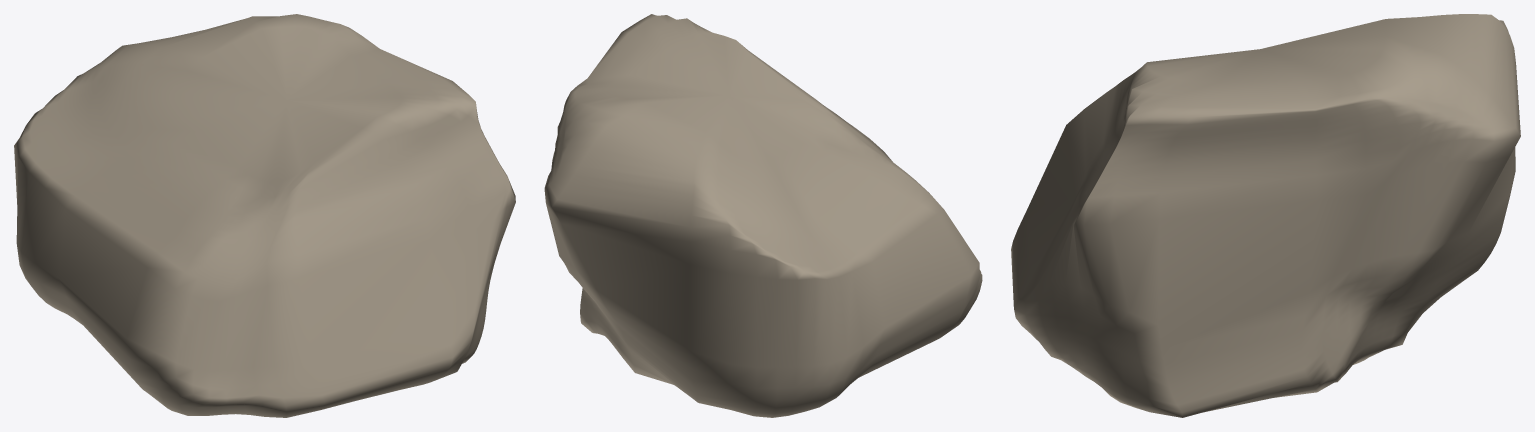
The model's file is landscape.rock.gritstone_02.glb.
3 renders of one model, left to right at view 1: azimuth 30°, elevation 25°; view 2: azimuth 150°, elevation 25°; view 3: azimuth 270°, elevation 25°, orthographic. The views are drawn at different scales.
Visible parts, largest first — view 1: main__stone_a98; view 2: main__stone_a98; view 3: main__stone_a98.
Part boxes in pixels (left/top/right/bottom): main__stone_a98: left=14, top=14, right=515, bottom=417; main__stone_a98: left=544, top=14, right=982, bottom=417; main__stone_a98: left=1011, top=14, right=1520, bottom=417.
Size of the model in its own units: 1.06 by 0.7681 by 1.12.
